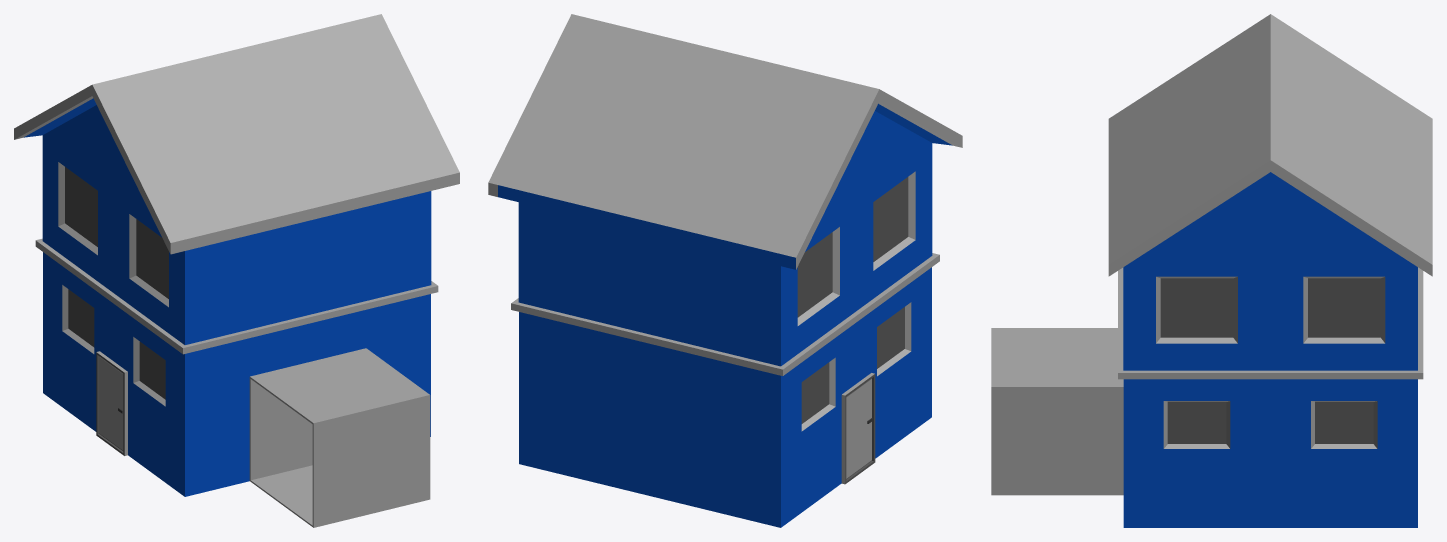
The model's file is house.glb.
3 renders of one model, left to right at view 1: azimuth 30°, elevation 25°; view 2: azimuth 150°, elevation 25°; view 3: azimuth 270°, elevation 25°, orthographic. The views are drawn at different scales.
Visible parts, largest first — view 1: House.004; view 2: House.004; view 3: House.004.
Part boxes in pixels (bbox=[...]): House.004: bbox=[14, 14, 459, 527]; House.004: bbox=[488, 14, 962, 527]; House.004: bbox=[991, 14, 1432, 527].
Bounding box in the file's own units: 17.85 × 21.56 × 22.79.
1 material, 1 textured.
